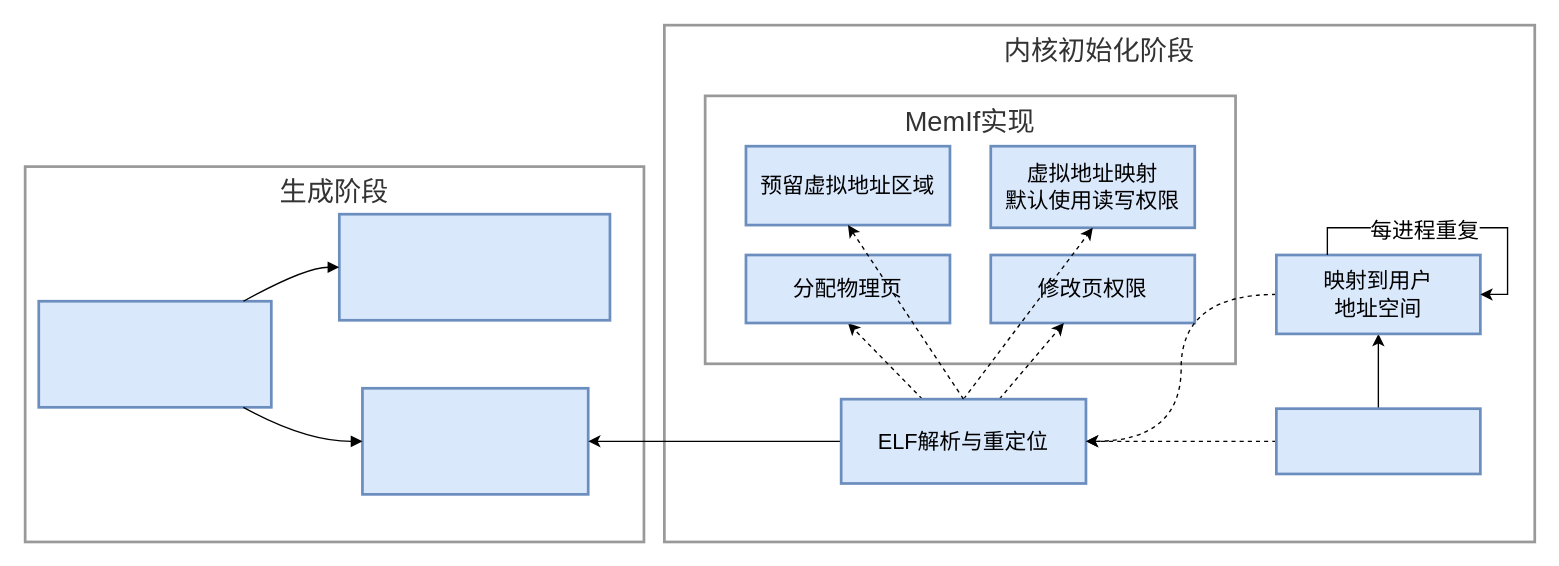
The diagram is 1559 pixels wide and 566 high, and some of its shapes have lost their labels. Each missing label, with the centre of its shape:
"vdso_crate_template 读取配置" belongs at [154,353].
"内核加载vDSO" belongs at [1377,441].
"生成vDSO共享对象 包含代码与数据段" belongs at [474,266].
"生成静态API库 记录函数偏移" belongs at [474,440].
